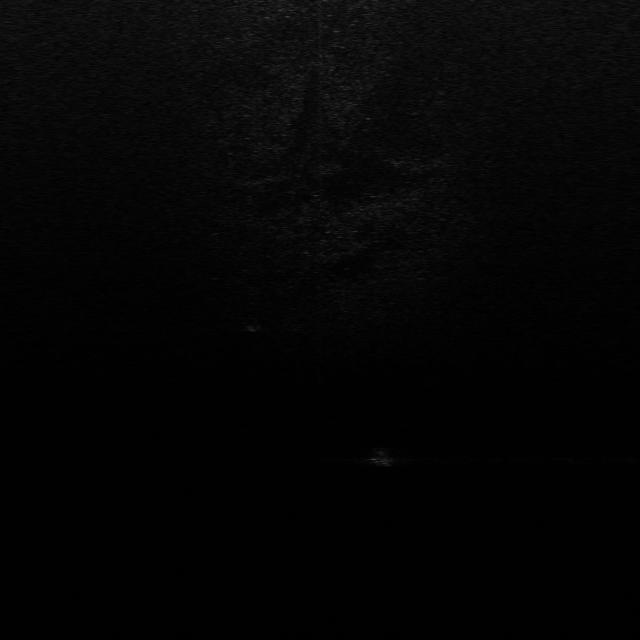ball: (364, 446, 400, 467)
circle cage: (241, 315, 267, 333)
